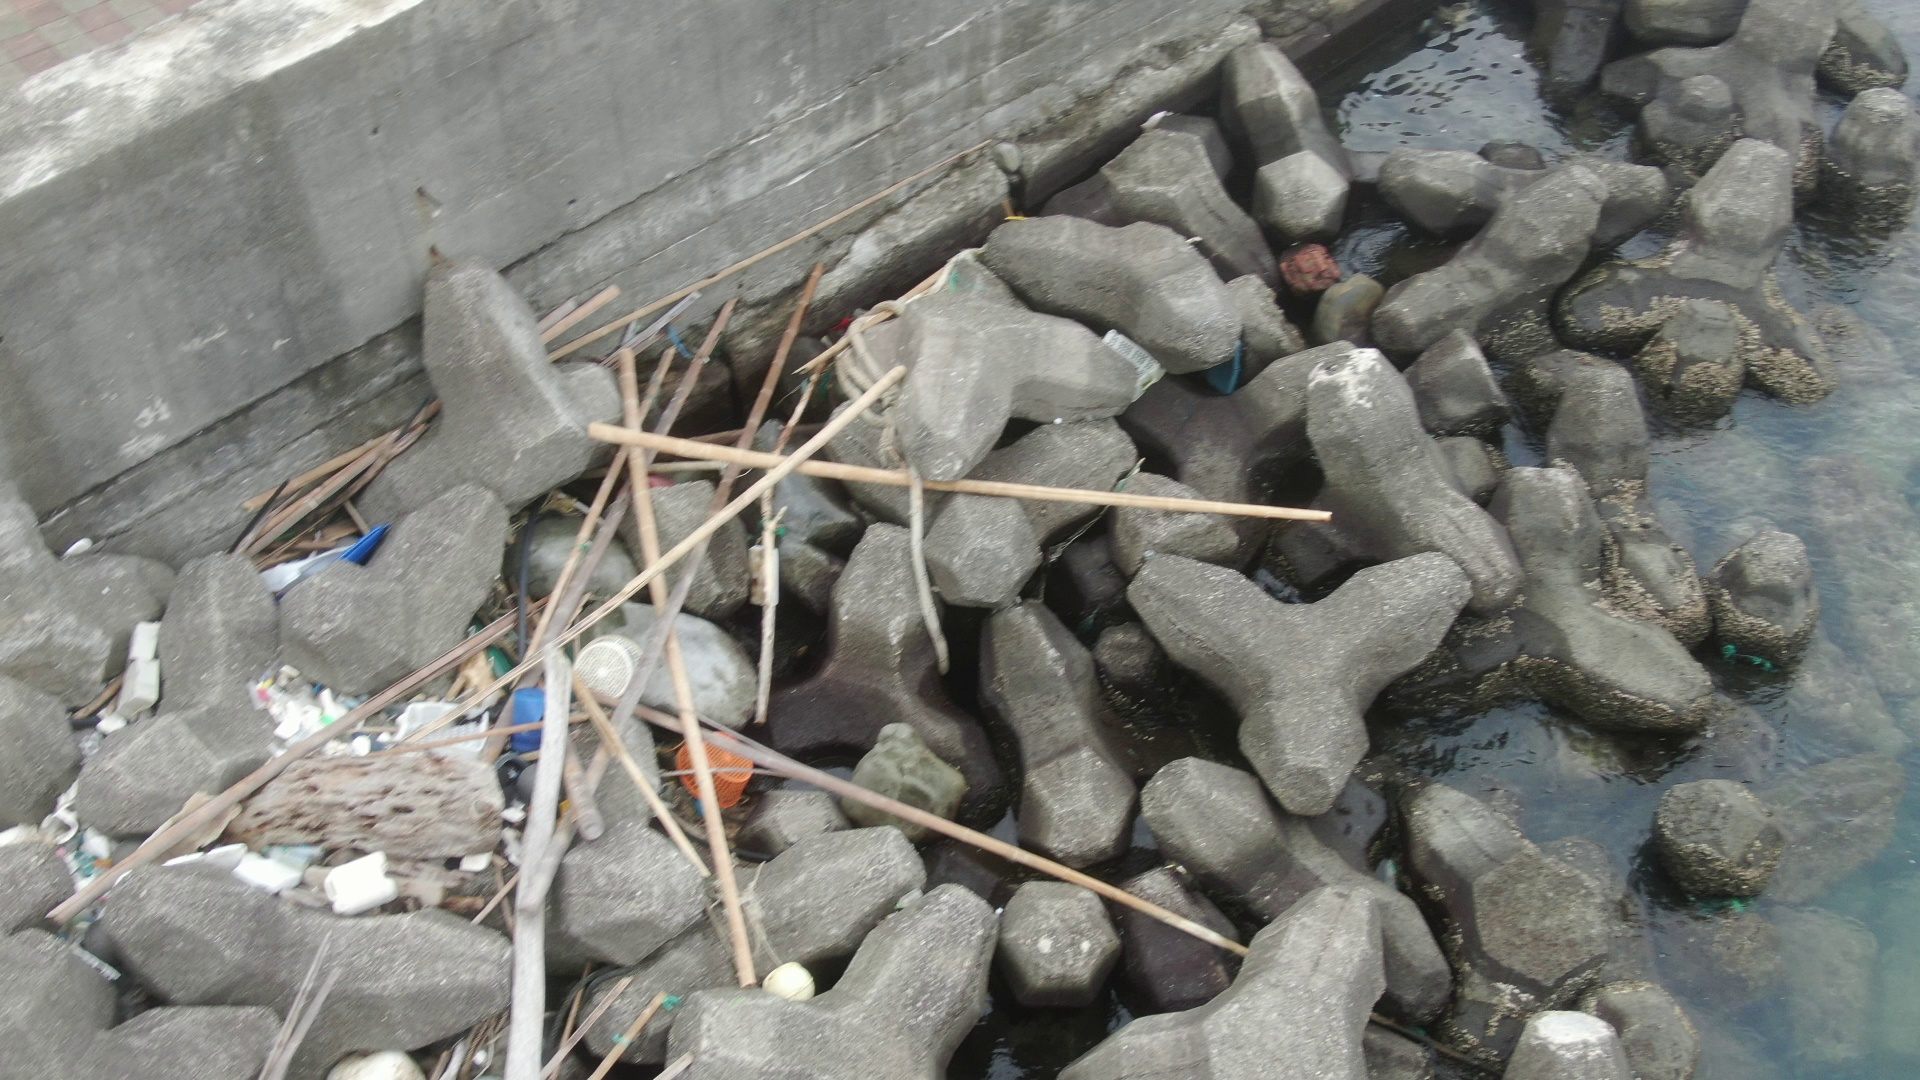garbage: (245, 626, 651, 765), (9, 770, 127, 934), (198, 824, 407, 915), (245, 513, 396, 589), (450, 786, 546, 901), (661, 727, 785, 811), (95, 613, 179, 736), (738, 510, 803, 626), (313, 1038, 446, 1080), (1098, 318, 1162, 397), (750, 953, 825, 1002), (1200, 326, 1246, 390)
